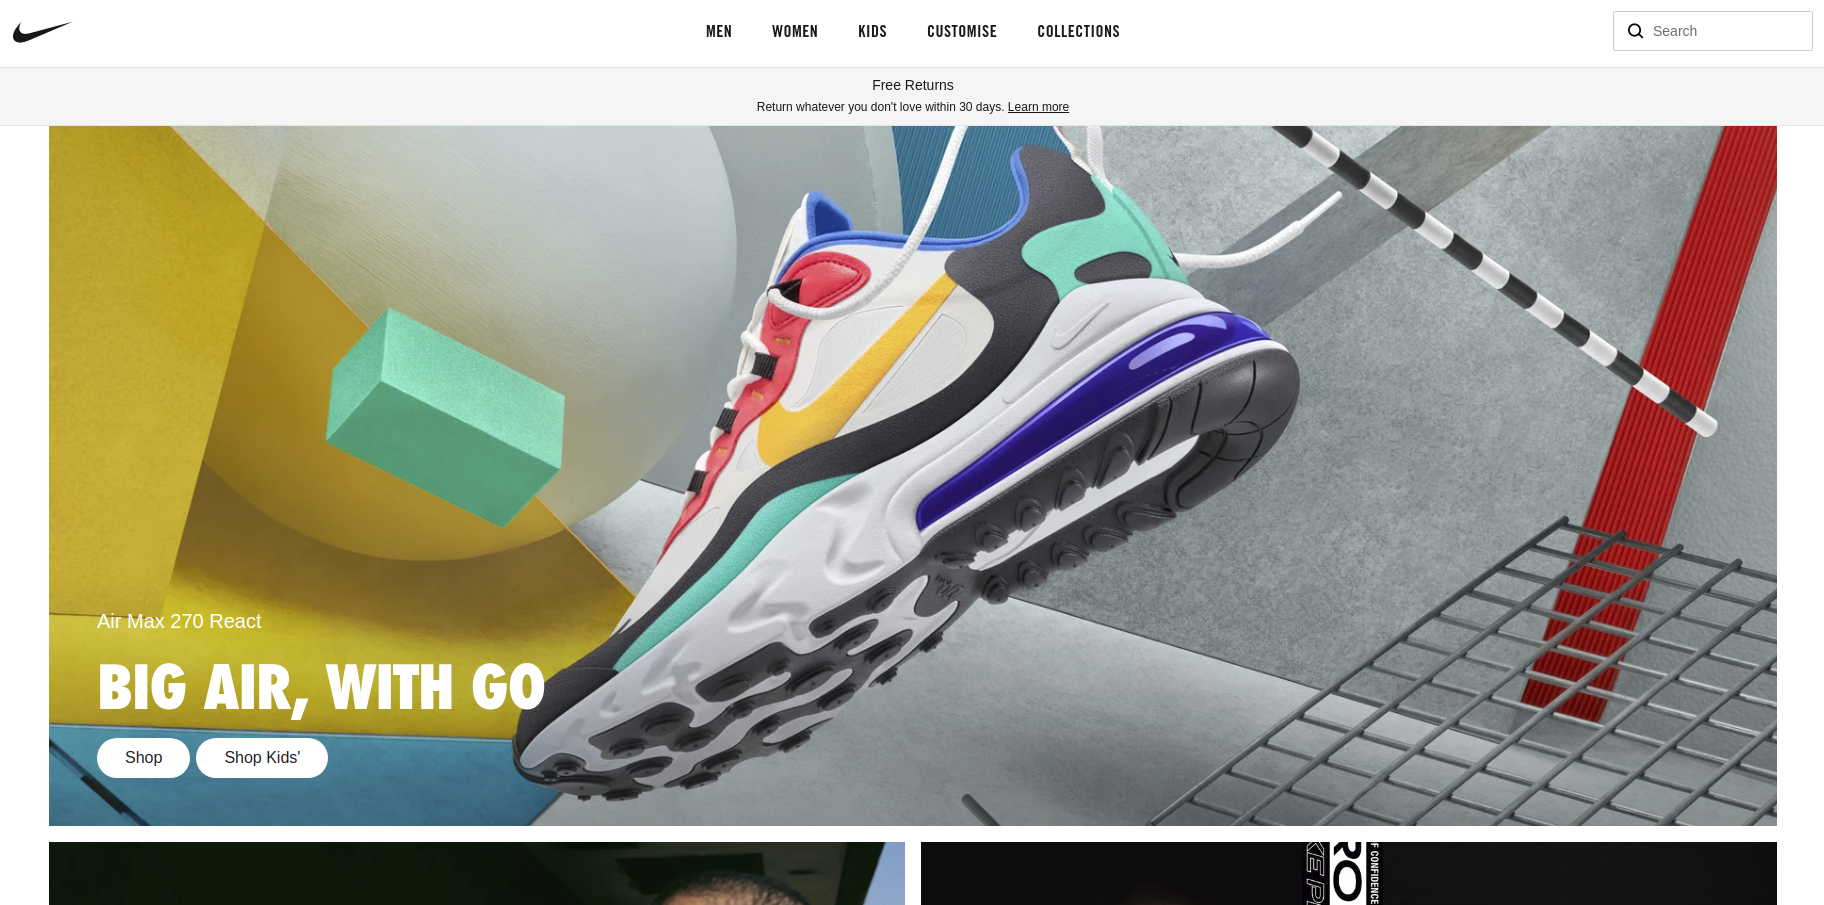Nike: (732, 250, 972, 482), (3, 8, 77, 52)
